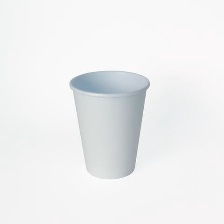paper_cup: (64, 66, 154, 183)
